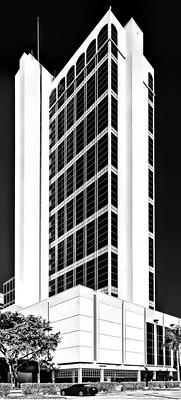building: (33, 7, 158, 381)
